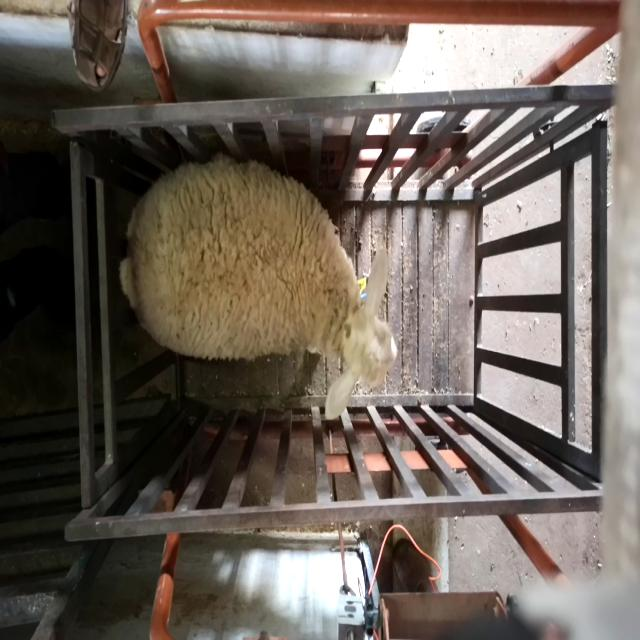sheep: (120, 152, 398, 422)
